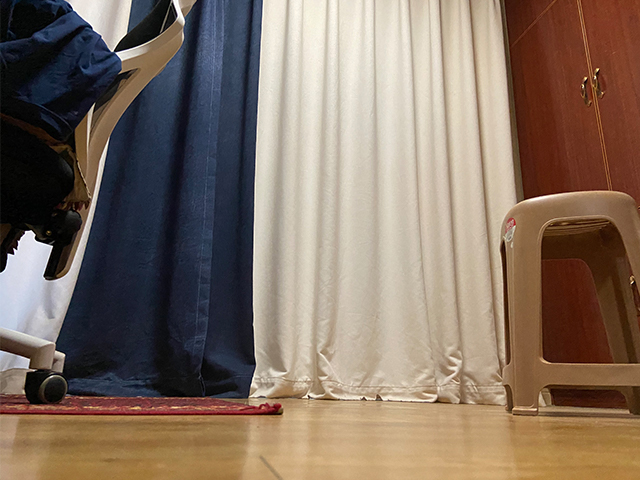carpet: (1, 390, 286, 416)
curtain: (58, 1, 520, 400)
stool: (497, 189, 640, 416)
